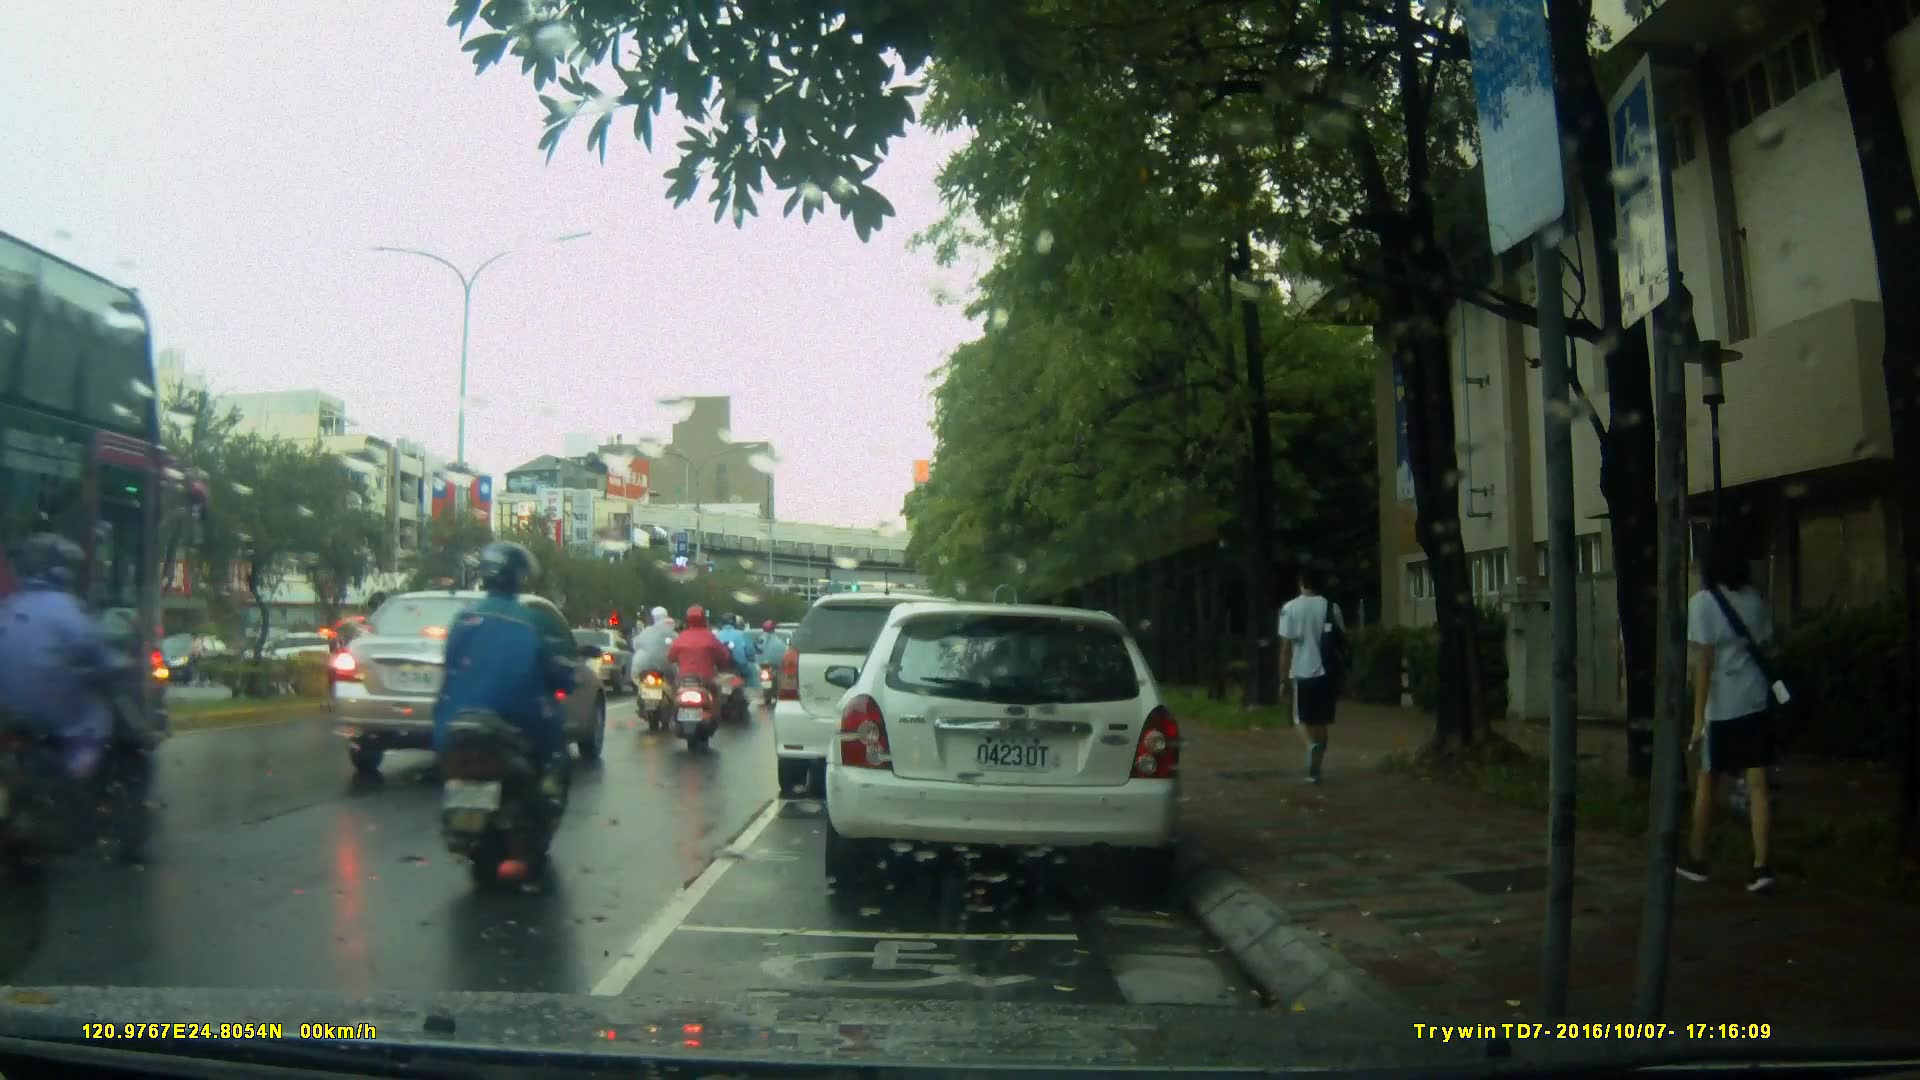pedestrian: (1, 523, 160, 868), (1661, 525, 1780, 903), (1273, 554, 1374, 807)
rider: (430, 541, 577, 895), (662, 605, 730, 759), (629, 603, 684, 737), (709, 611, 760, 716), (753, 616, 788, 711)
vehicle: (822, 604, 1188, 882), (330, 588, 613, 779), (774, 595, 995, 802), (541, 625, 640, 698), (144, 630, 241, 686)
